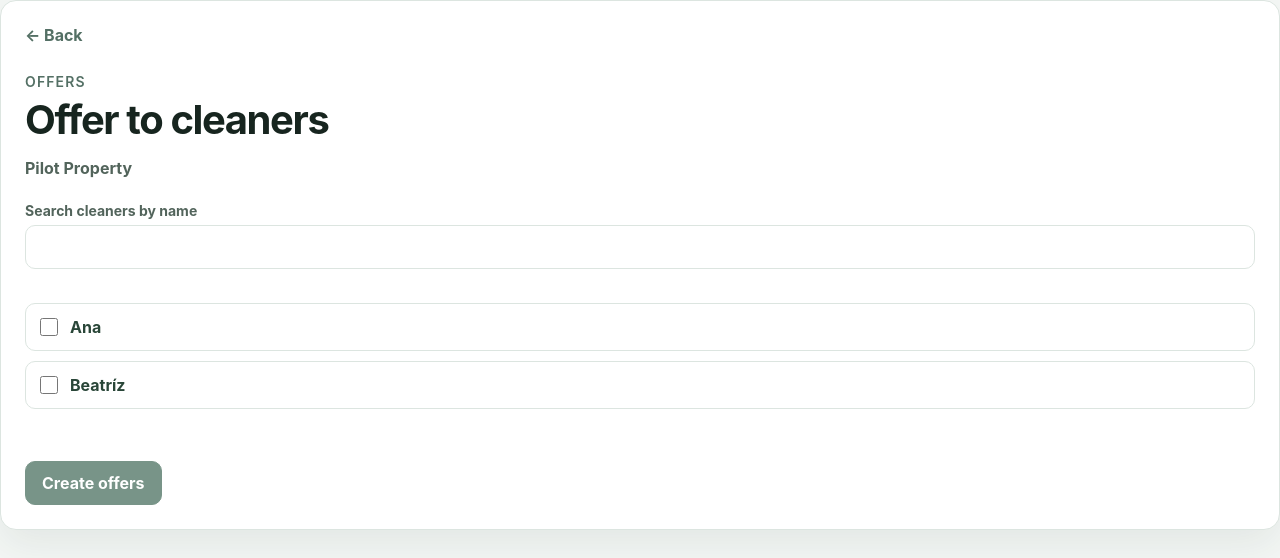
OfferCleaners name search › shows an explicit no-match state while retaining the offer form
In the search field labelled "Search cleaners by name": (640, 247) left=25, top=225, right=1255, bottom=269, type "nobody"
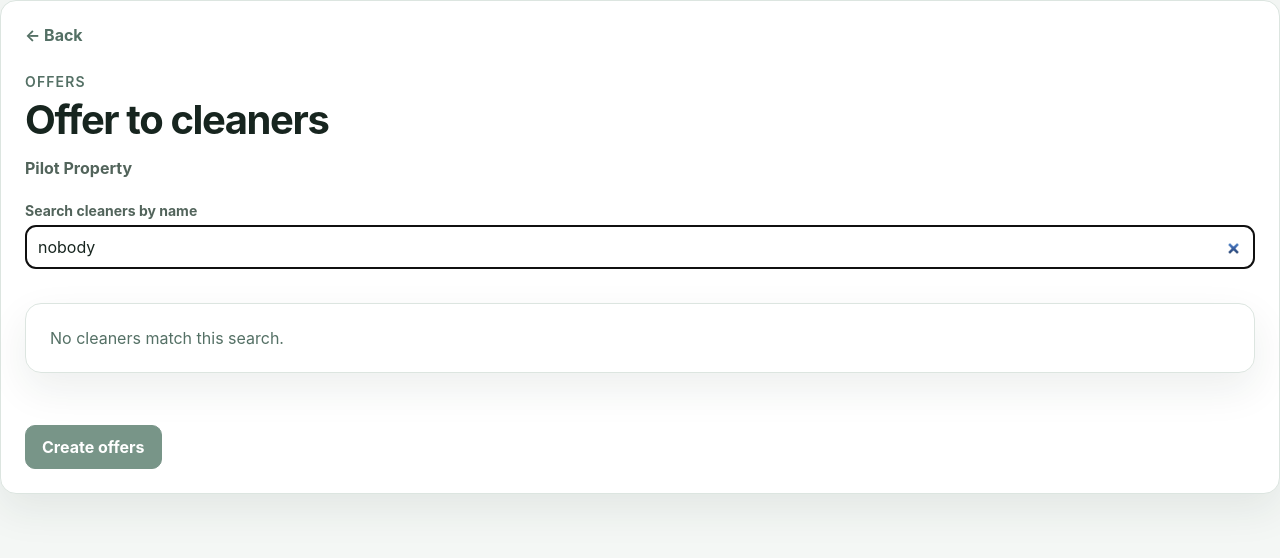
Expected: the button "Create offers" is disabled, left=25, top=425, right=162, bottom=469
Now the text "No cleaners match this search." is shown, box left=25, top=303, right=1255, bottom=373
